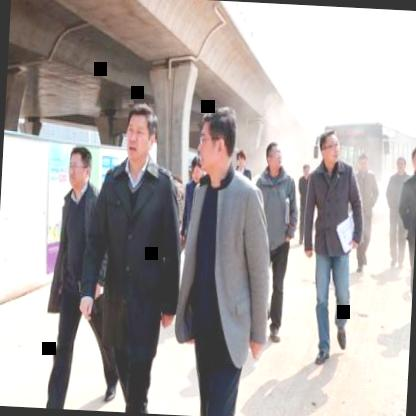head: (197, 102, 237, 182), (119, 101, 158, 168), (64, 142, 95, 194), (314, 124, 342, 171), (264, 136, 286, 174), (188, 153, 206, 185), (394, 152, 410, 177), (356, 147, 372, 172), (410, 143, 416, 179)
